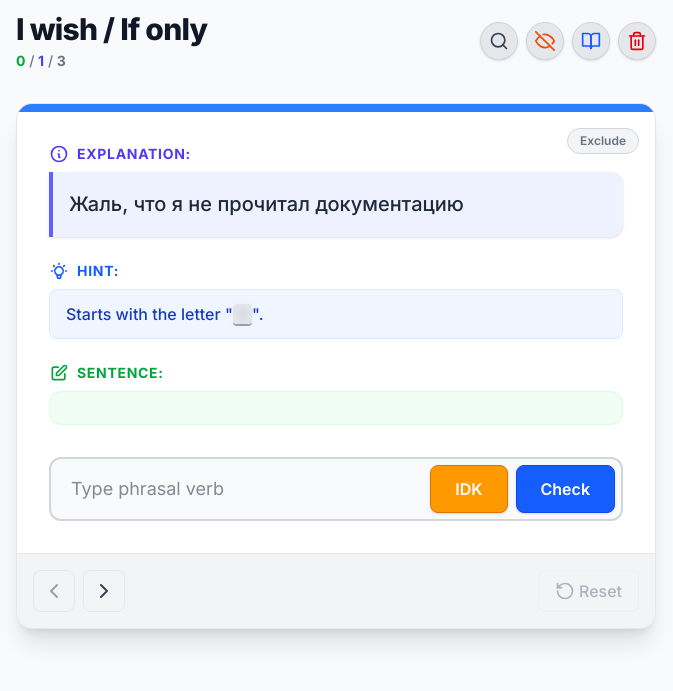
it: IWishPage — answer checking › marks wrong for an incorrect answer and shows first correct answer
The image size is (673, 691).
Type "I wish I had written better code" into the field with placeholder "Type phrasal verb".
click(336, 488); type("I wish I had written better code")  # box top-left (49, 456), bottom-right (623, 520)
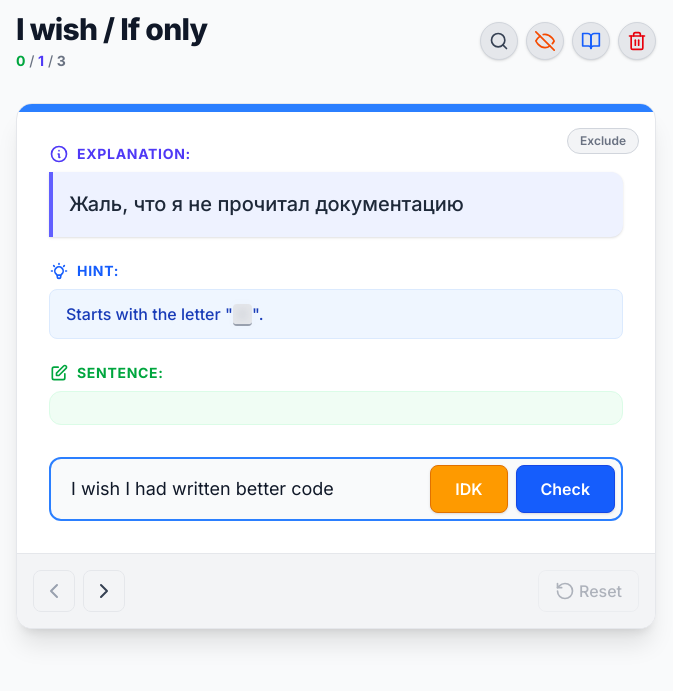
Click the button "Check".
click(565, 488)  # box top-left (516, 464), bottom-right (615, 512)
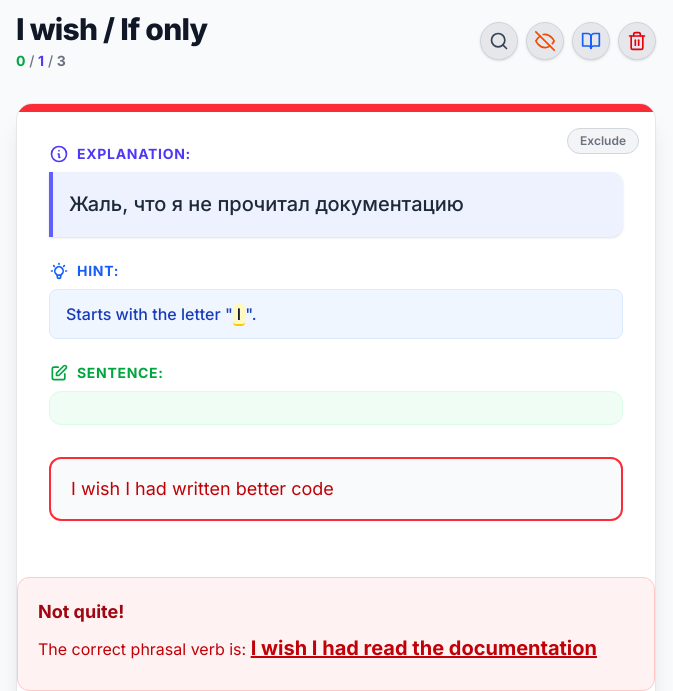
Check: the heading "Not quite!" is shown, box top-left (38, 600), bottom-right (124, 622)
Check: the text "I wish I had read the documentation" is shown, box top-left (251, 636), bottom-right (597, 660)
